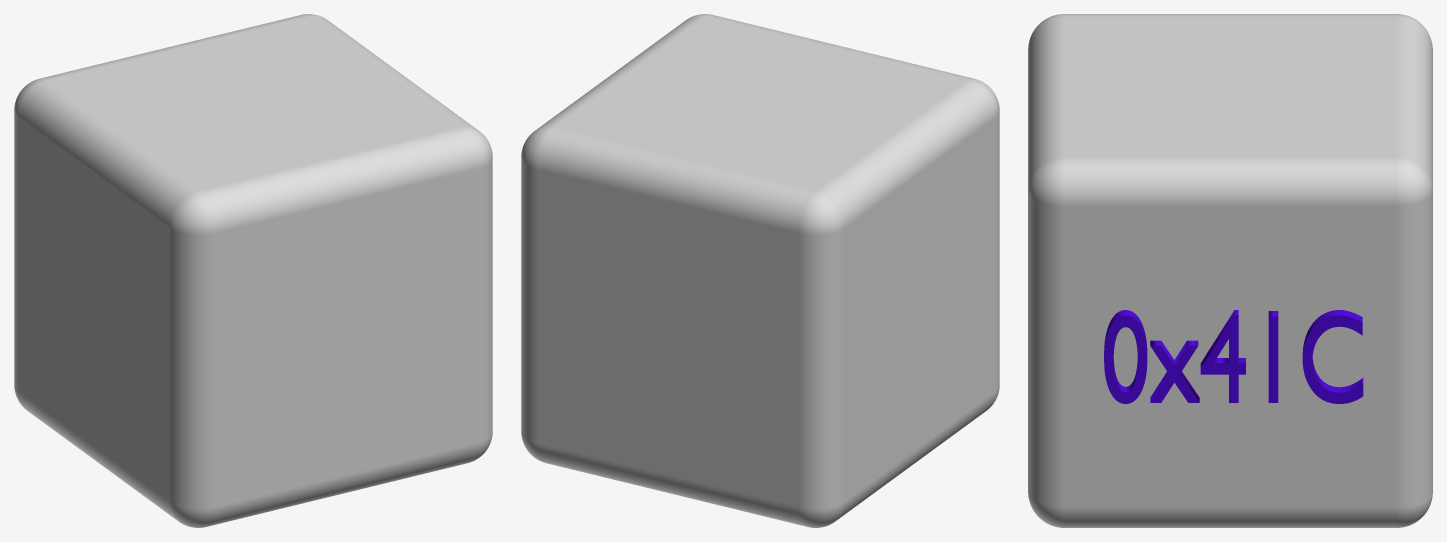
Rendered from Instr32.fbx.
3 views of the same model, side by side, from view 1: azimuth 30°, elevation 25°; view 2: azimuth 150°, elevation 25°; view 3: azimuth 270°, elevation 25° (orthographic). The views are drawn at different scales.
Parts seen in each view (by area): view 1: Cube; view 2: Cube; view 3: Cube, Text.
Boxes of the visible parts, left/top/right/bottom form: Cube: left=14, top=14, right=492, bottom=527; Cube: left=521, top=14, right=999, bottom=527; Cube: left=1028, top=14, right=1432, bottom=527; Text: left=1104, top=310, right=1363, bottom=403.
Size of the model in its own units: 69.29 by 67.15 by 67.15.
